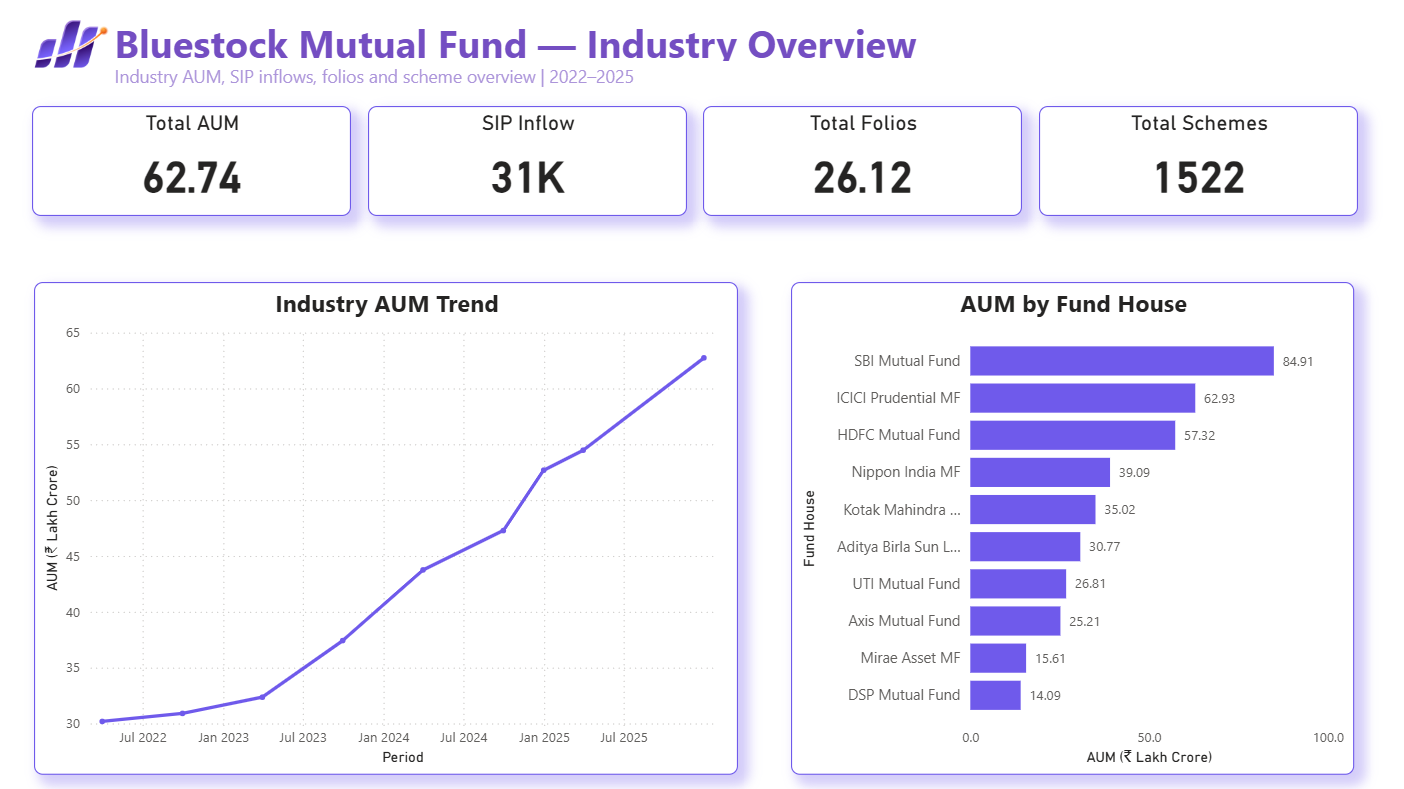

Layout of this report page (visuals, bound fields, positions):
{"tool":"powerbi","page":{"name":"Industry Overview","canvas":[1280,720],"ordinal":0},"visuals":[{"type":"card","title":"Total AUM","fields":{"Values":["01_fund_master_cleaned.Total AUM"]},"box":[30,96,290,100],"z":0},{"type":"card","title":"SIP Inflow","fields":{"Values":["01_fund_master_cleaned.Latest SIP Inflow"]},"box":[335,96,290,100],"z":1000},{"type":"card","title":"Total Folios","fields":{"Values":["01_fund_master_cleaned.Total Folios"]},"box":[640,96,290,100],"z":2000},{"type":"card","title":"Total Schemes","fields":{"Values":["01_fund_master_cleaned.Total Schemes"]},"box":[945,96,290,100],"z":3000},{"type":"lineChart","title":"Industry AUM Trend","fields":{"Category":["03_aum_by_fund_house_cleaned.date"],"Y":["Sum(03_aum_by_fund_house_cleaned.aum_lakh_crore)"]},"box":[32,256,640,448],"z":4000},{"type":"clusteredBarChart","title":"AUM by Fund House","fields":{"Category":["03_aum_by_fund_house_cleaned.fund_house"],"Y":["Sum(03_aum_by_fund_house_cleaned.aum_lakh_crore)"]},"box":[720,256,512,448],"z":5000},{"type":"textbox","title":"Bluestock Mutual Fund — Industry Overview","box":[100,15,1000,40],"z":6000},{"type":"textbox","title":"Industry AUM, SIP inflows, folios and scheme overview | 2022–2025","box":[100,58,1000,25],"z":7000},{"type":"image","box":[0,0,128,80],"z":8000}]}

Visuals, with their boxes in screenshot pixels (x1, y1, x2, y2), scaled from the page's 1280x720 canvas onto the 1404x789 screenshot:
"Total AUM" card: (left=33, top=105, right=351, bottom=215)
"SIP Inflow" card: (left=367, top=105, right=686, bottom=215)
"Total Folios" card: (left=702, top=105, right=1020, bottom=215)
"Total Schemes" card: (left=1037, top=105, right=1355, bottom=215)
"Industry AUM Trend" lineChart: (left=35, top=281, right=737, bottom=771)
"AUM by Fund House" clusteredBarChart: (left=790, top=281, right=1351, bottom=771)
"Bluestock Mutual Fund — Industry Overview" textbox: (left=110, top=16, right=1207, bottom=60)
"Industry AUM, SIP inflows, folios and scheme overview | 2022–2025" textbox: (left=110, top=64, right=1207, bottom=91)
image: (left=0, top=0, right=140, bottom=88)
